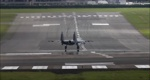maybay_muctieu: (50, 31, 91, 51)
